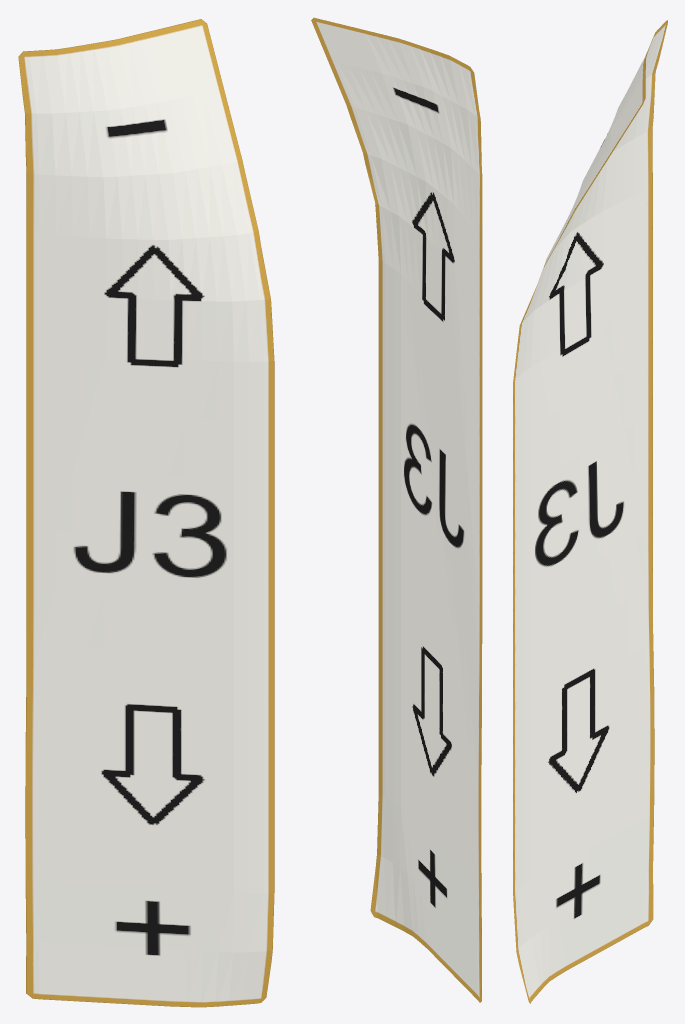
File: J3_sticker_active.glb
The picture shows the model from 3 angles, left to right: view 1: azimuth 30°, elevation 25°; view 2: azimuth 150°, elevation 25°; view 3: azimuth 270°, elevation 25°; orthographic projection. The views are drawn at different scales.
Size of the model in its own units: 0.012 by 0.06 by 0.00948.
Materials: 1 (1 with a texture image).
